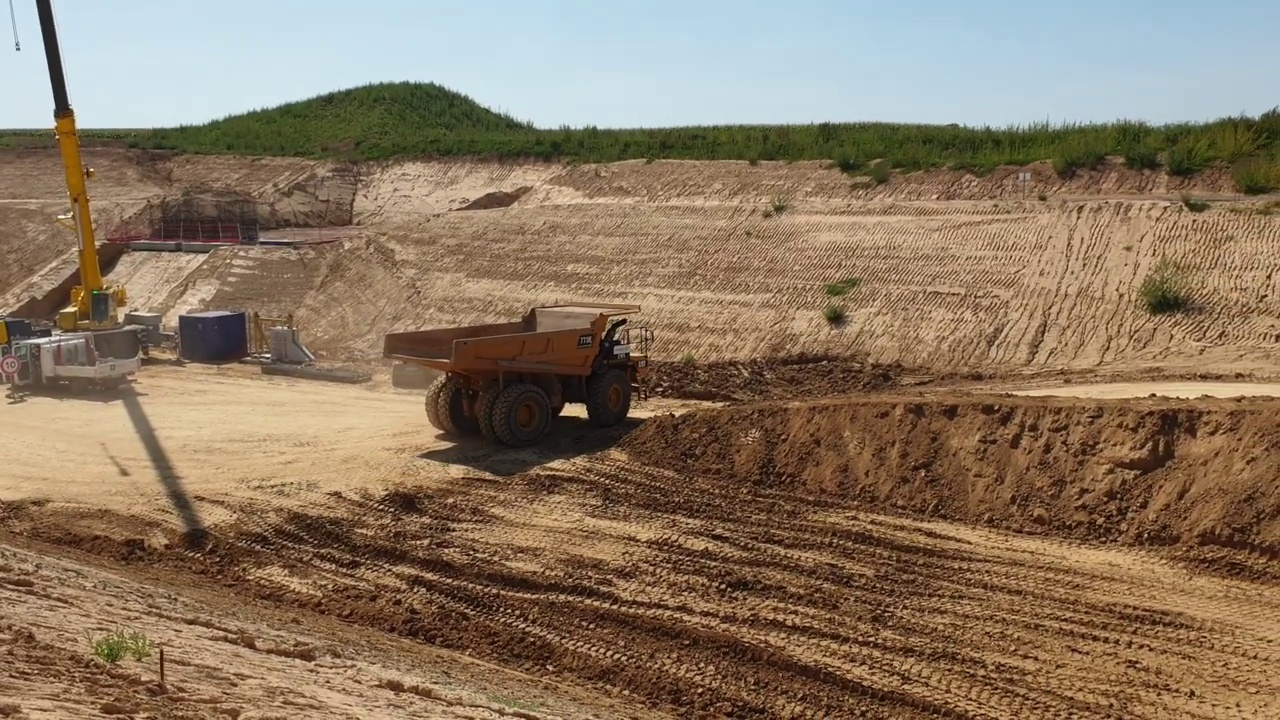crane: (1, 1, 150, 402)
truck: (378, 299, 659, 455)
